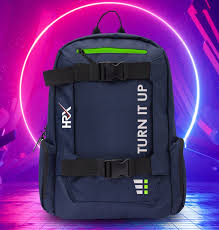backpack: (37, 10, 186, 220)
